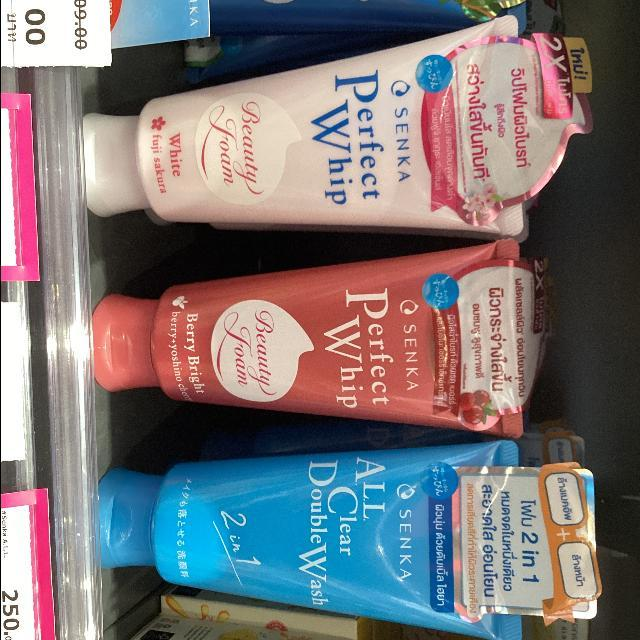Squeeze Tube: (78, 15, 590, 257), (84, 420, 563, 634), (72, 240, 543, 443)
